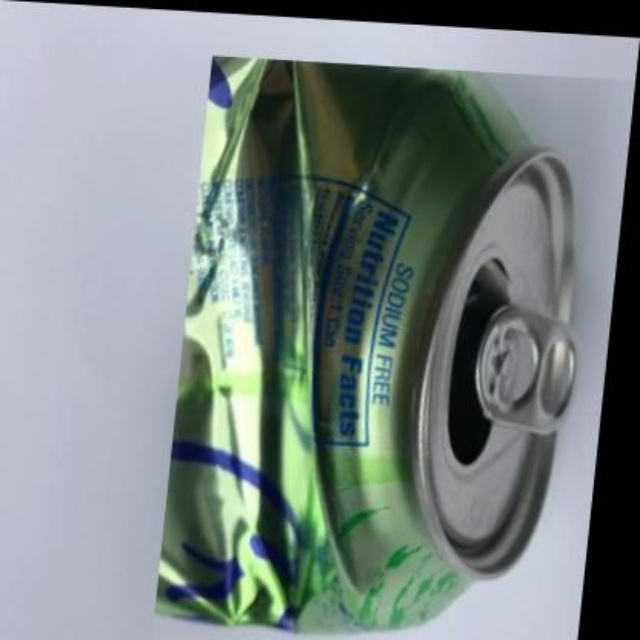trash: (158, 57, 574, 629), (291, 63, 578, 625), (158, 58, 311, 623)
